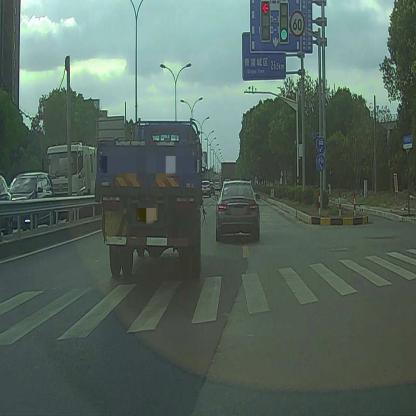Green Light: (279, 1, 289, 42)
Red Light: (260, 0, 271, 44)
Speed Limit 60: (289, 9, 306, 37)
